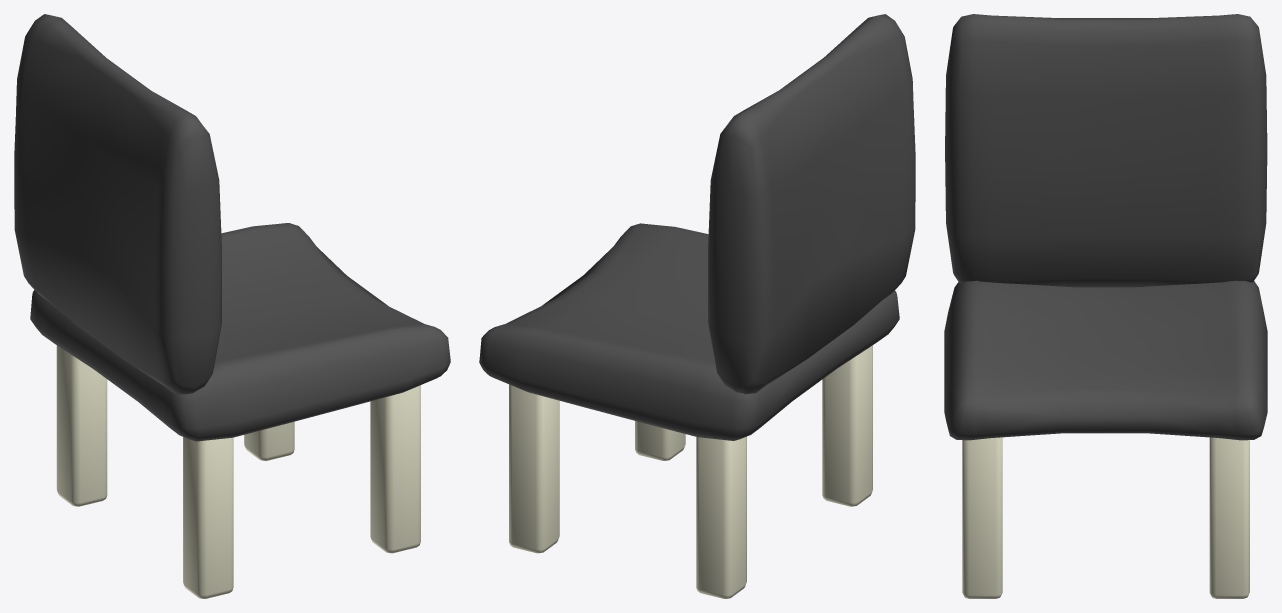
File: Props_Chair_01.fbx
The picture shows the model from 3 angles, left to right: view 1: azimuth 30°, elevation 25°; view 2: azimuth 150°, elevation 25°; view 3: azimuth 270°, elevation 25°; orthographic projection. The views are drawn at different scales.
Visible parts, largest first — view 1: Props_Chair_01; view 2: Props_Chair_01; view 3: Props_Chair_01.
Part boxes in pixels (box(x1,y1,x2,y2)): Props_Chair_01: box(14, 14, 450, 598); Props_Chair_01: box(479, 14, 915, 598); Props_Chair_01: box(944, 14, 1267, 598).
Size of the model in its own units: 53.9 by 86.97 by 53.47.
